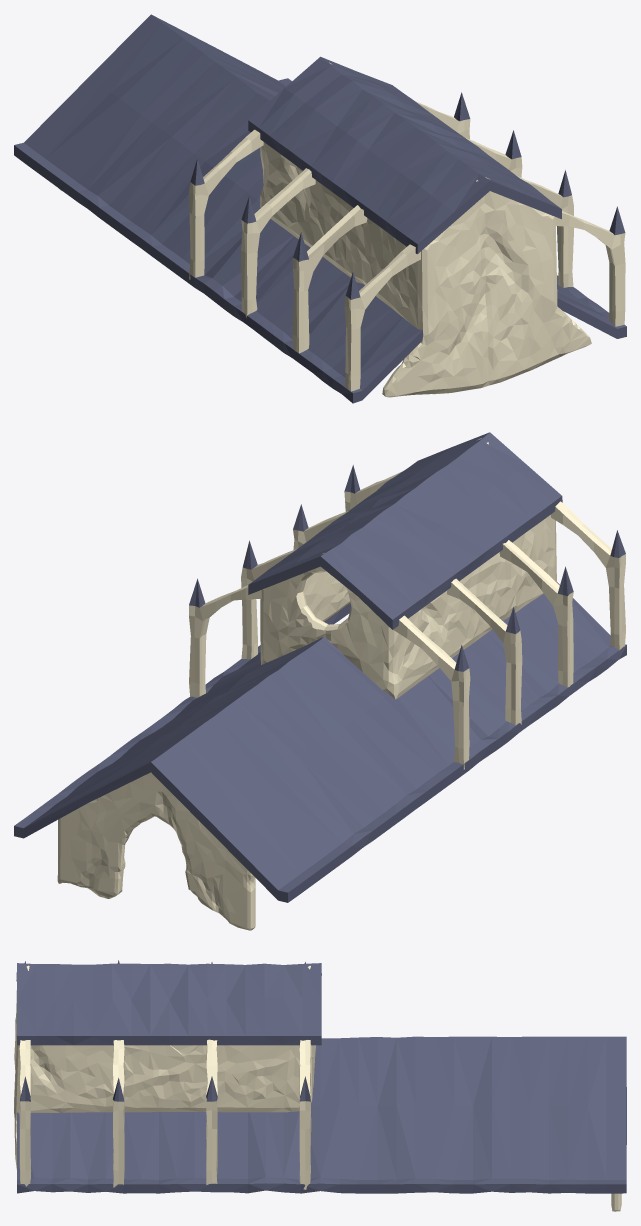
File: roof.fbx
The picture shows the model from 3 angles, top to bottom: view 1: azimuth 30°, elevation 25°; view 2: azimuth 150°, elevation 25°; view 3: azimuth 270°, elevation 25°; orthographic projection. The views are drawn at different scales.
Parts seen in each view (by area): view 1: topRoof; view 2: topRoof; view 3: topRoof.
Part boxes in pixels (left/top/right/bottom): topRoof: left=14, top=14, right=626, bottom=403; topRoof: left=14, top=432, right=626, bottom=930; topRoof: left=14, top=960, right=626, bottom=1211.
Size of the model in its own units: 2836 by 2296 by 6032.
